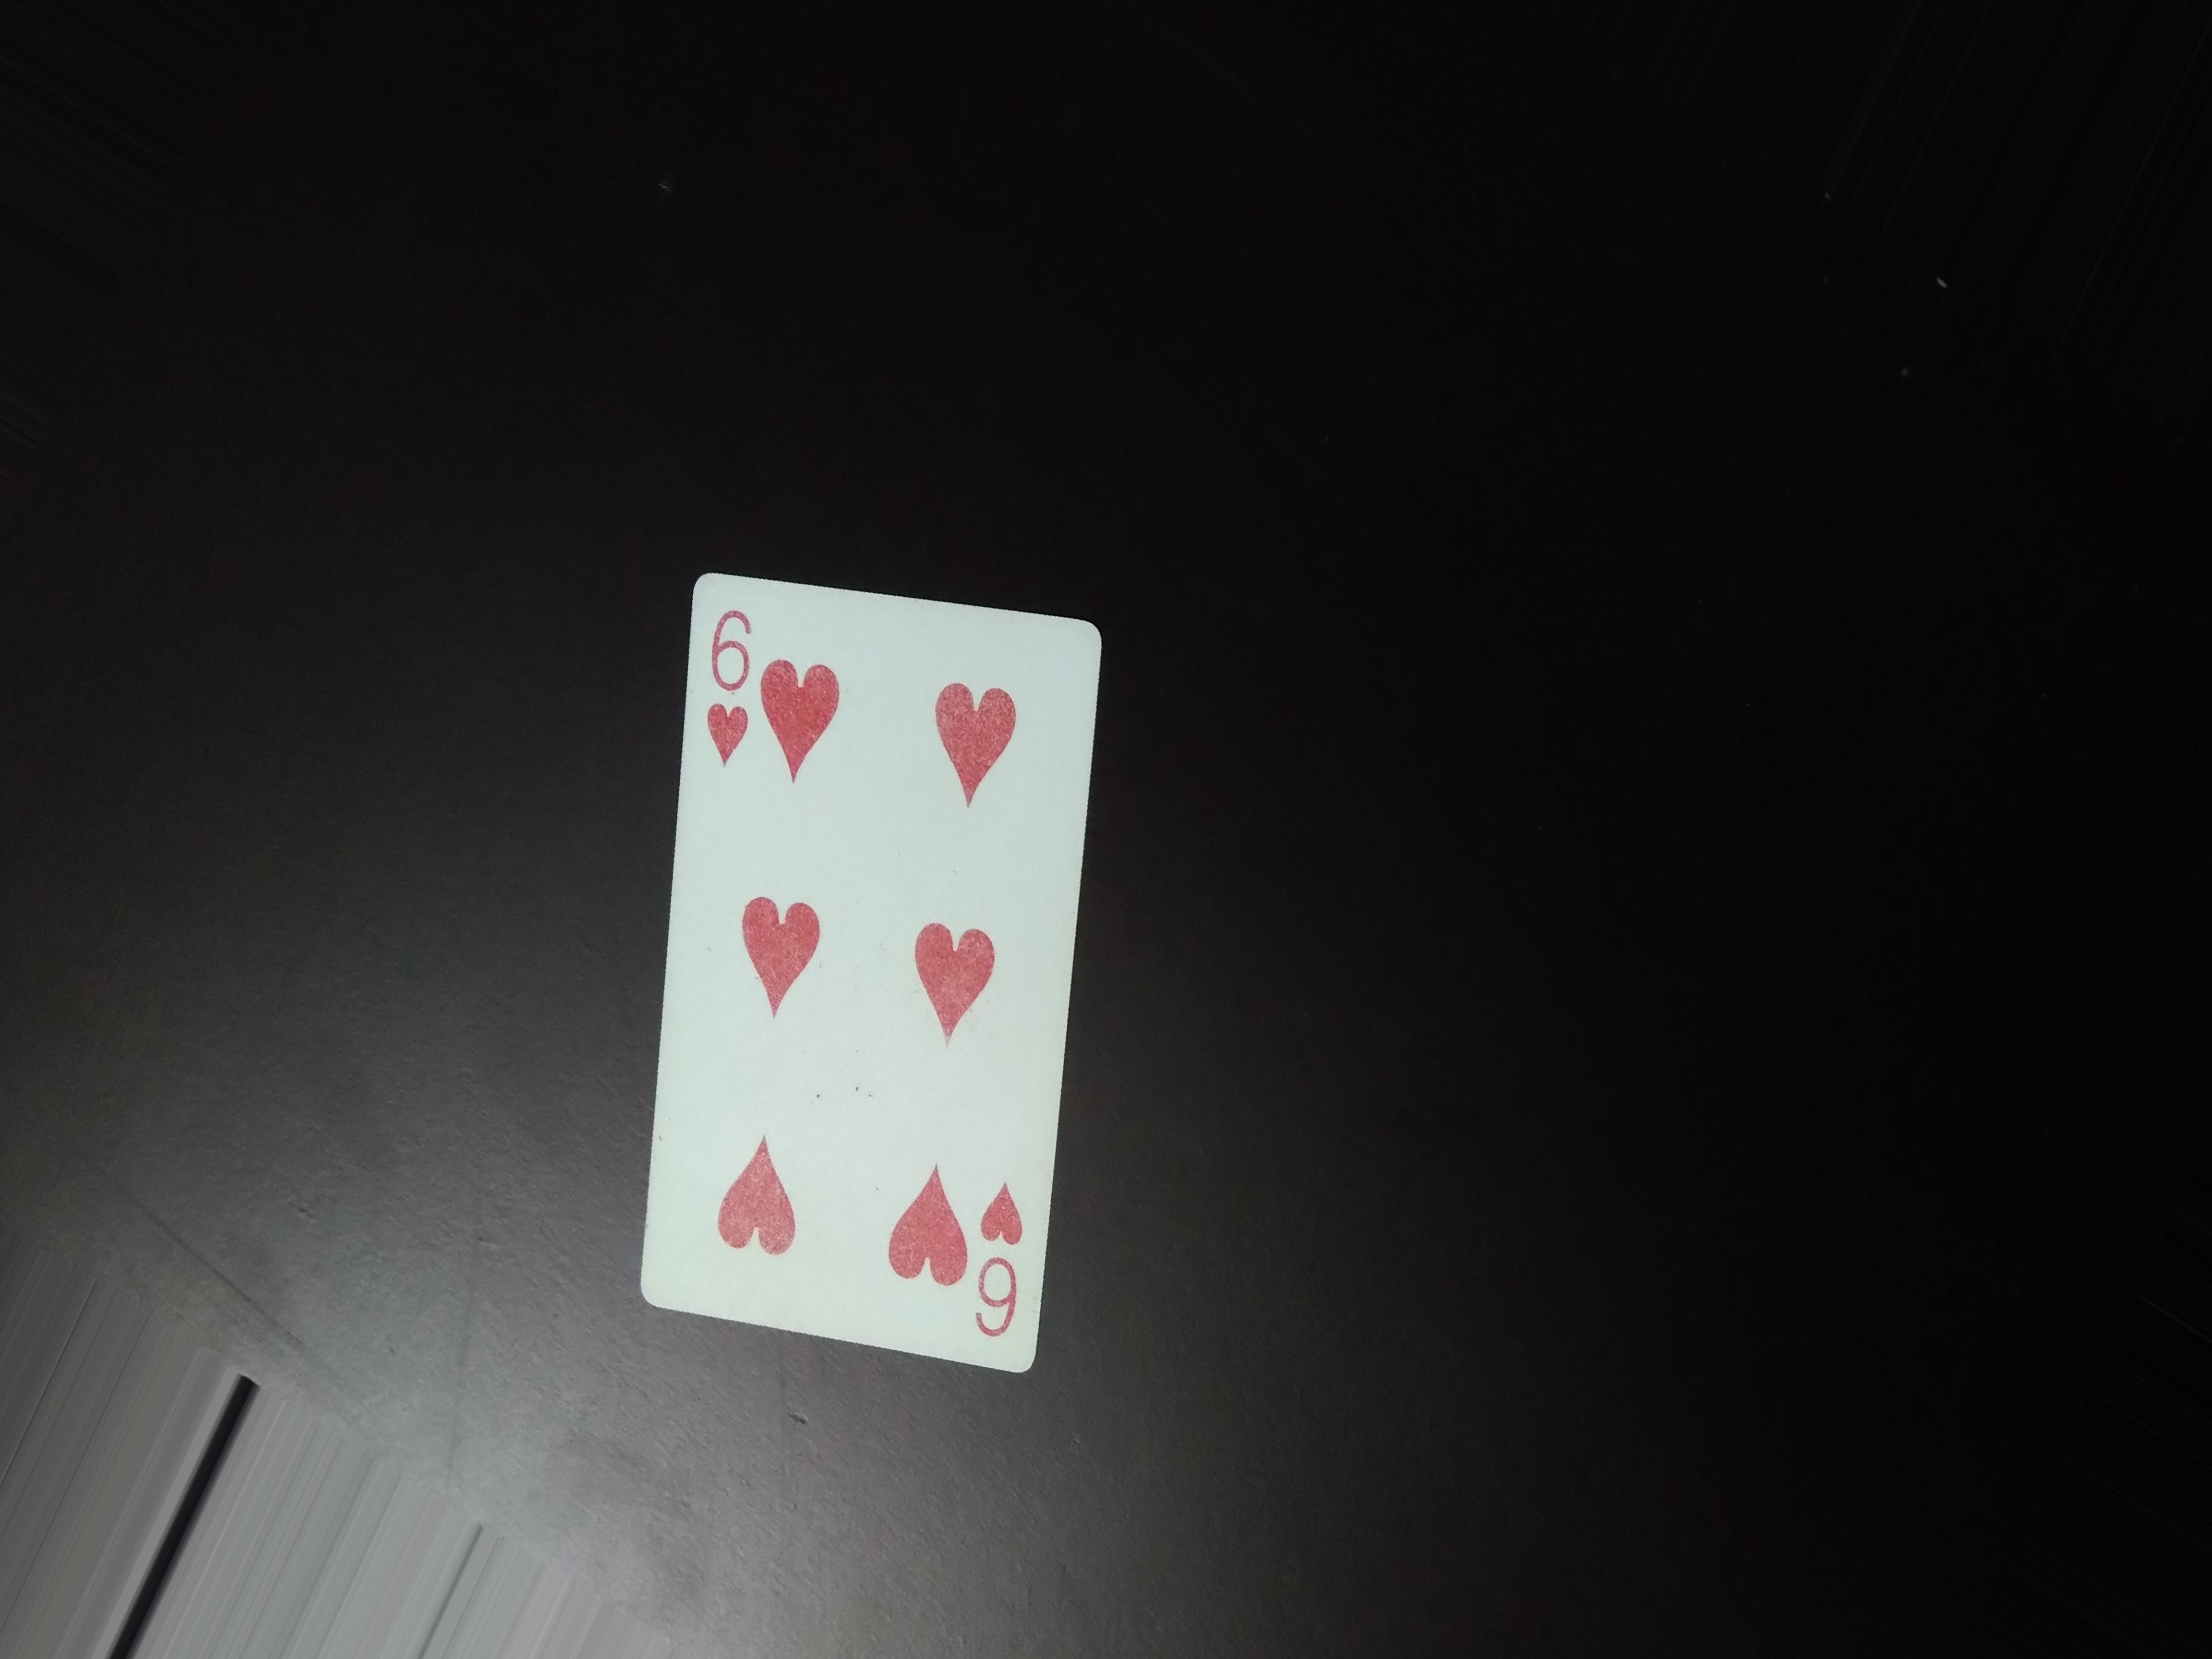6H: (982, 1168, 1022, 1345)
